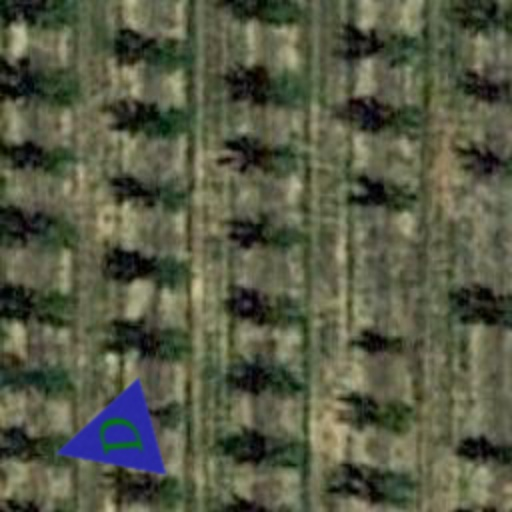triangle: (40, 376, 168, 504)
